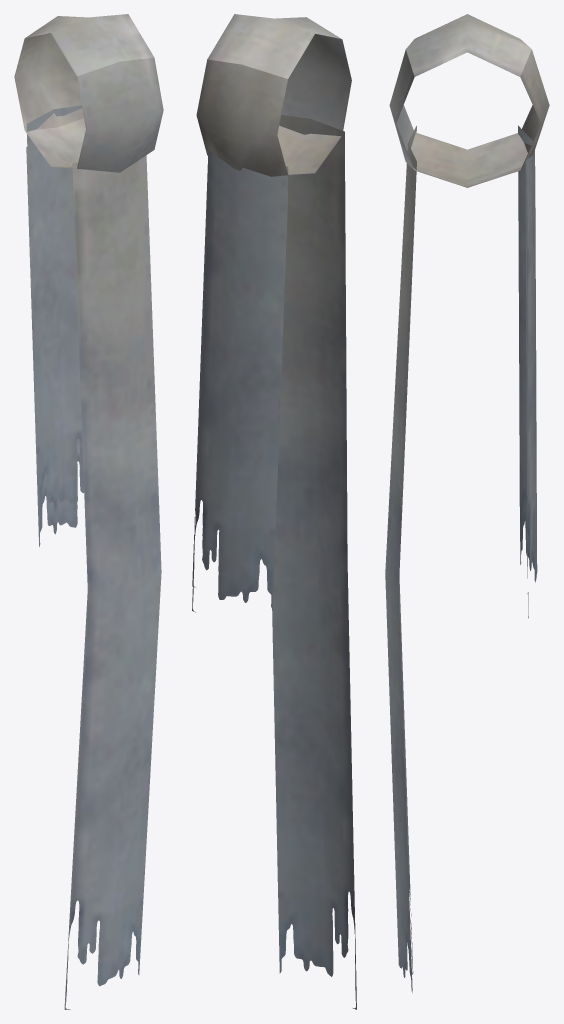
File: environment_common_qizi_002_b.FBX
The picture shows the model from 3 angles, left to right: view 1: azimuth 30°, elevation 25°; view 2: azimuth 150°, elevation 25°; view 3: azimuth 270°, elevation 25°; orthographic projection. The views are drawn at different scales.
Visible parts, largest first — view 1: environment_common_qizi_002_b; view 2: environment_common_qizi_002_b; view 3: environment_common_qizi_002_b.
Boxes of the visible parts, x1,y1,x2,y2 form: environment_common_qizi_002_b: [14, 14, 163, 1009]; environment_common_qizi_002_b: [192, 14, 356, 1009]; environment_common_qizi_002_b: [385, 14, 549, 992].
Bounding box in the file's own units: 20.91 × 189 × 28.98.
Materials: 1 (1 with a texture image).
